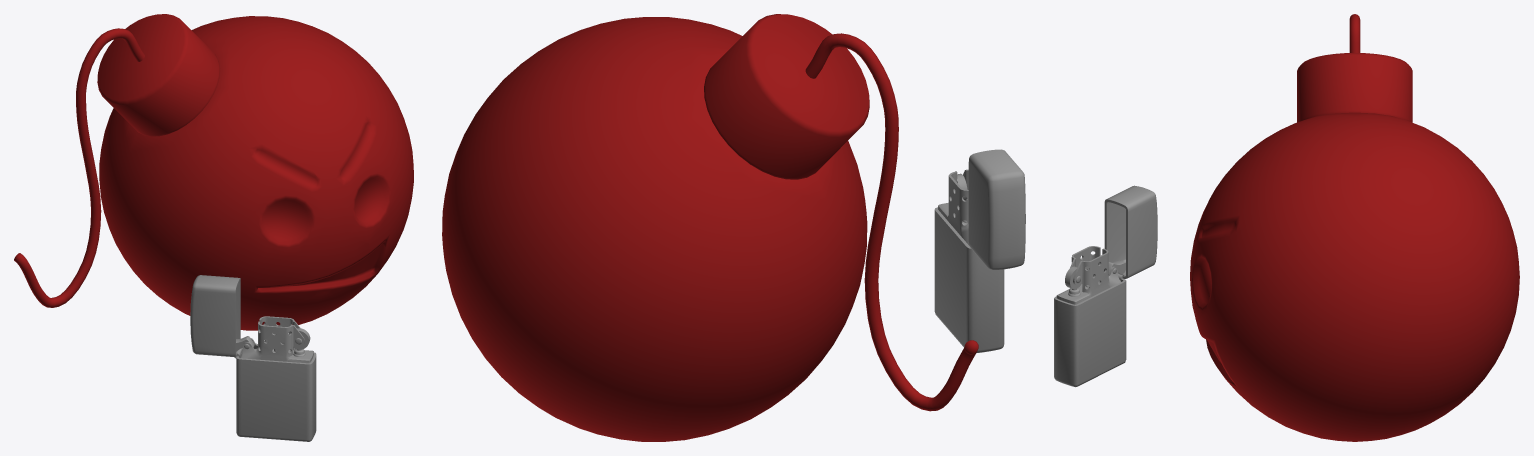
Rendered from BombLighter.FBX.
3 views of the same model, side by side, from view 1: azimuth 30°, elevation 25°; view 2: azimuth 150°, elevation 25°; view 3: azimuth 270°, elevation 25° (orthographic). The views are drawn at different scales.
Parts seen in each view (by area): view 1: Bomb_low, Lighter; view 2: Bomb_low, Lighter; view 3: Bomb_low, Lighter.
Part boxes in pixels (bbox=[...]): Bomb_low: bbox=[14, 14, 413, 330]; Lighter: bbox=[190, 275, 316, 441]; Bomb_low: bbox=[442, 14, 978, 441]; Lighter: bbox=[934, 149, 1025, 353]; Bomb_low: bbox=[1190, 14, 1519, 441]; Lighter: bbox=[1054, 185, 1157, 387].
Bounding box in the file's own units: 52.81 × 43 × 53.93.
